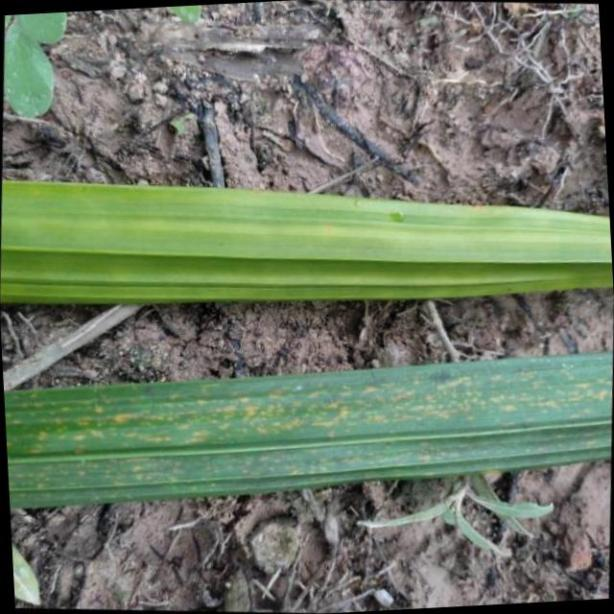nitrogen: (0, 356, 614, 512), (5, 172, 614, 308)
